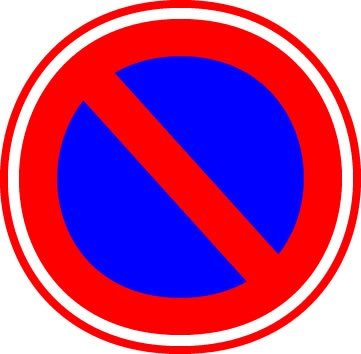Prohibition_sign: (3, 2, 359, 354)
